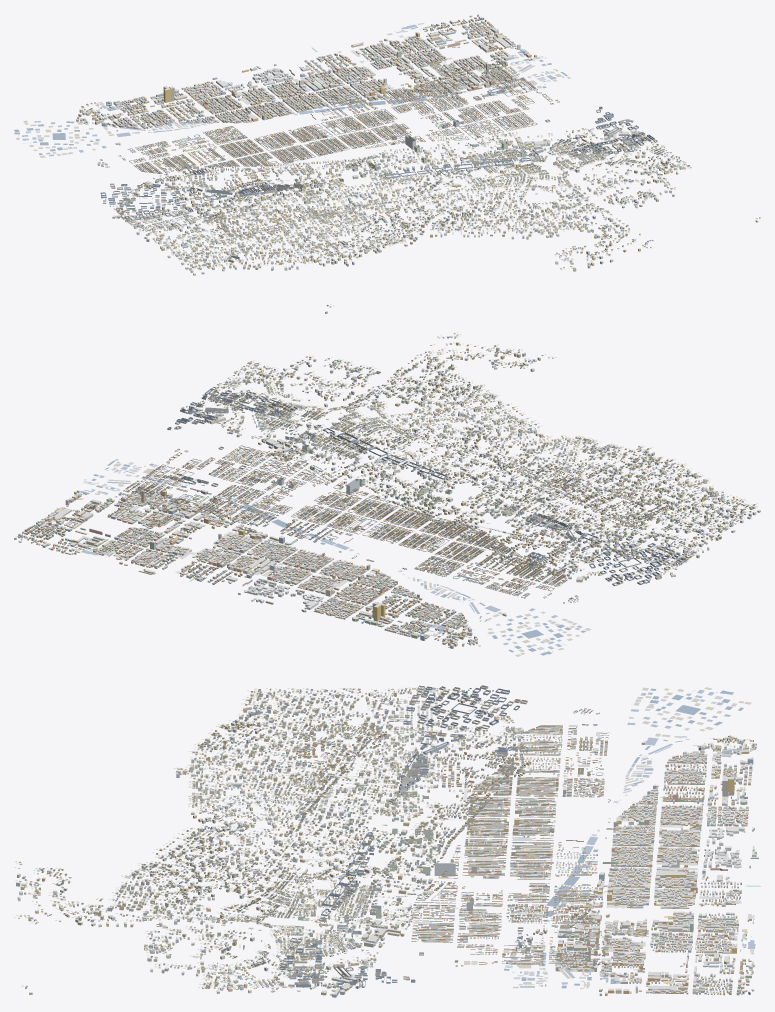
3 renders of one model, top to bottom at view 1: azimuth 30°, elevation 25°; view 2: azimuth 150°, elevation 25°; view 3: azimuth 270°, elevation 25°, orthographic. The views are drawn at different scales.
Parts seen in each view (by area): view 1: apartment, house, roof_flat, shop, roof_zinc, factory, glass; view 2: apartment, house, roof_flat, shop, roof_zinc, factory, glass; view 3: apartment, roof_flat, house, shop, roof_zinc, factory, glass.
Part boxes in pixels (left/top/right/bottom): apartment: left=73, top=14, right=758, bottom=275; house: left=81, top=27, right=760, bottom=269; roof_flat: left=73, top=14, right=757, bottom=274; shop: left=97, top=59, right=612, bottom=240; roof_zinc: left=14, top=23, right=760, bottom=270; factory: left=100, top=85, right=657, bottom=262; glass: left=174, top=119, right=550, bottom=204; apartment: left=14, top=311, right=760, bottom=648; house: left=45, top=305, right=755, bottom=642; roof_flat: left=14, top=311, right=760, bottom=647; shop: left=115, top=371, right=669, bottom=603; roof_zinc: left=48, top=304, right=757, bottom=656; factory: left=167, top=387, right=723, bottom=586; glass: left=218, top=423, right=611, bottom=555; apartment: left=16, top=693, right=758, bottom=997; roof_flat: left=16, top=692, right=758, bottom=994; house: left=18, top=687, right=756, bottom=989; shop: left=156, top=708, right=618, bottom=966; roof_zinc: left=14, top=687, right=760, bottom=989; factory: left=243, top=685, right=531, bottom=988; glass: left=298, top=725, right=476, bottom=955.
Bounding box in the file's own units: 1.41e+08 × 3766789 × 1.46e+08.
